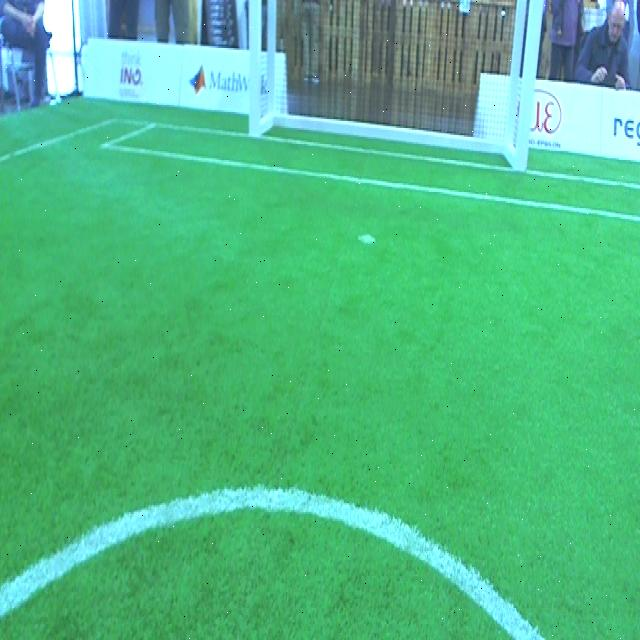goalpost: (515, 2, 544, 170), (250, 2, 260, 135)
